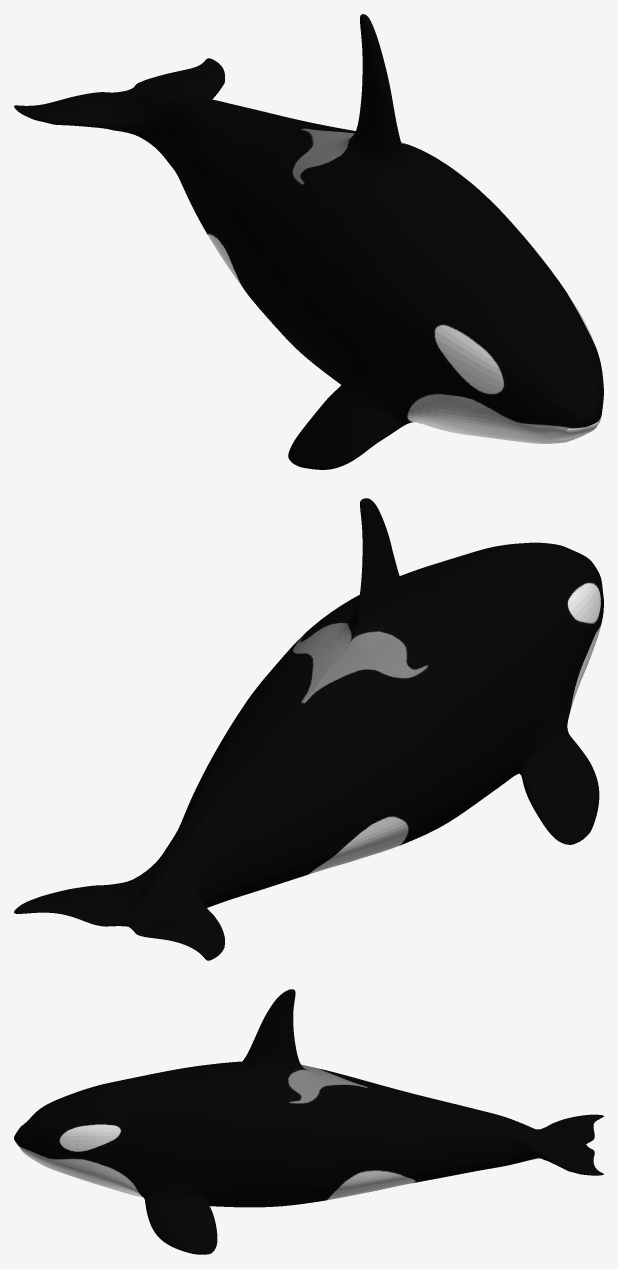
File: syati.glb
The picture shows the model from 3 angles, top to bottom: view 1: azimuth 30°, elevation 25°; view 2: azimuth 150°, elevation 25°; view 3: azimuth 270°, elevation 25°; orthographic projection. The views are drawn at different scales.
Parts seen in each view (by area): view 1: 立方体.001; view 2: 立方体.001; view 3: 立方体.001.
Boxes of the visible parts, bbox=[...] form: 立方体.001: bbox=[14, 14, 603, 469]; 立方体.001: bbox=[14, 498, 603, 960]; 立方体.001: bbox=[14, 989, 603, 1254].
Bounding box in the file's own units: 0.8051 × 0.9493 × 2.28.
1 material, 1 textured.
